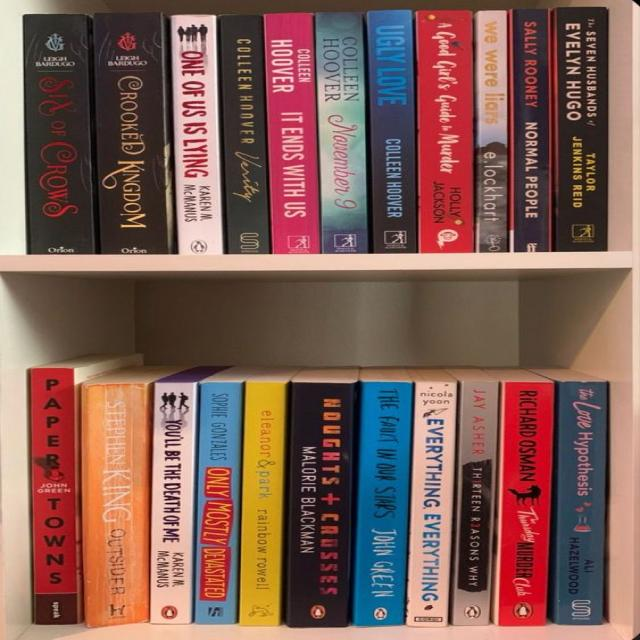book: (93, 12, 170, 254), (22, 14, 96, 255), (287, 382, 354, 626), (83, 383, 148, 627), (354, 382, 413, 625), (550, 382, 607, 624), (418, 9, 474, 253), (314, 12, 370, 253), (265, 13, 319, 254), (497, 382, 549, 626), (405, 382, 457, 626), (556, 8, 608, 250), (173, 14, 224, 254), (148, 384, 198, 624), (453, 381, 501, 626), (30, 369, 76, 624), (221, 15, 270, 253), (238, 381, 285, 626), (368, 10, 415, 253), (509, 10, 554, 252), (195, 382, 240, 624), (474, 10, 508, 252)
